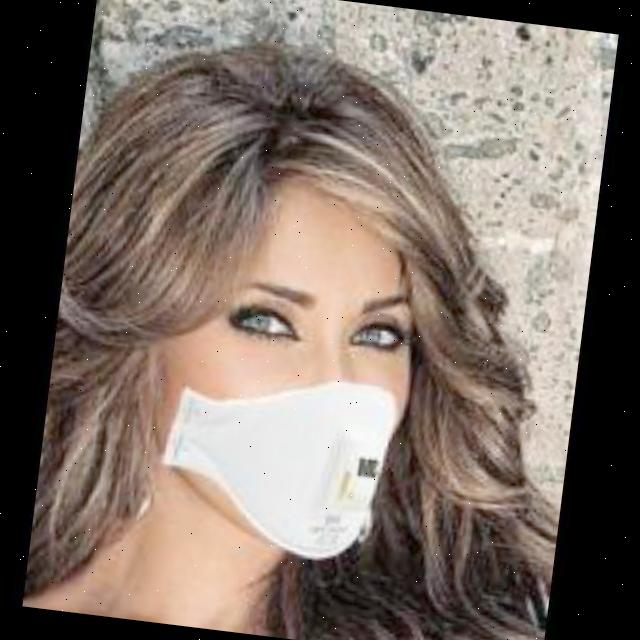suspicion: (94, 112, 472, 577)
